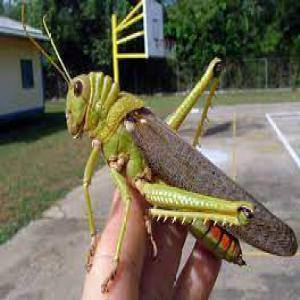locust: (25, 17, 300, 296)
